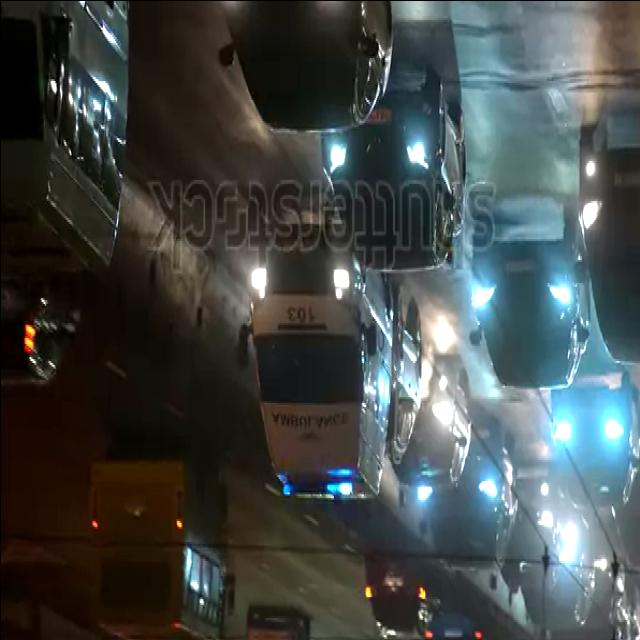ambulance: (235, 215, 396, 495)
